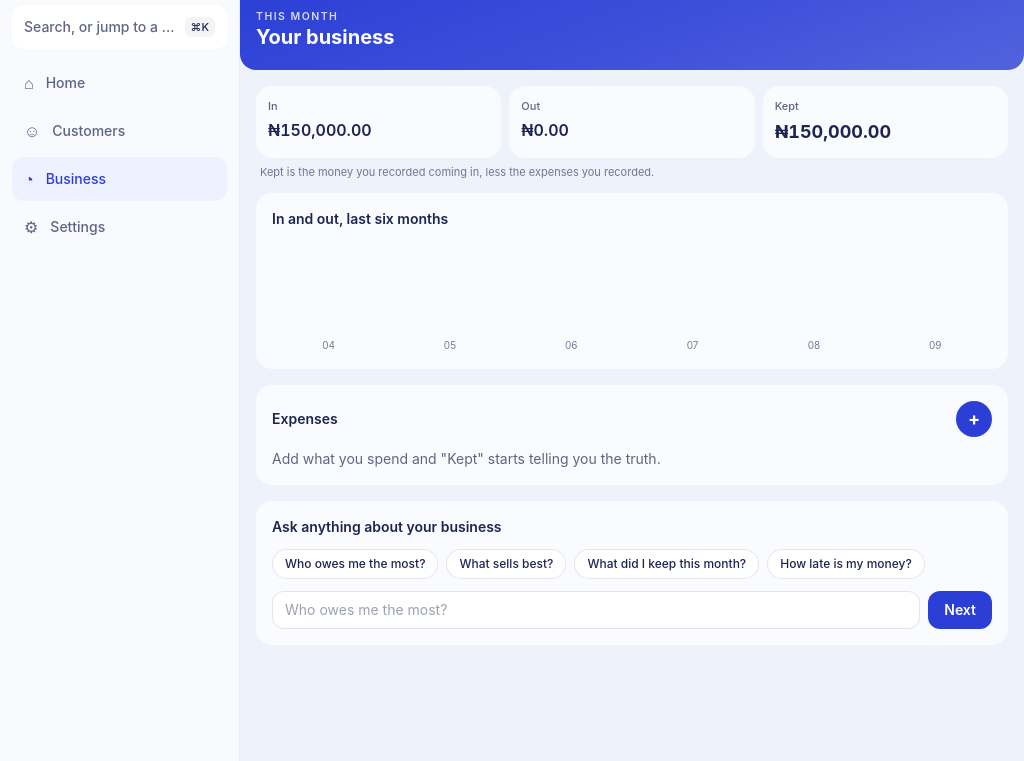
Adding an expense moves Kept, on the real screen › writes through the repository and the page re-reads
Expected: the element labelled "Kept" shows "₦150,000.00", [775,121,891,142]
Click the button named "Add an expense".
click(974, 419)  # box [956,401,992,437]
(page scrolled)
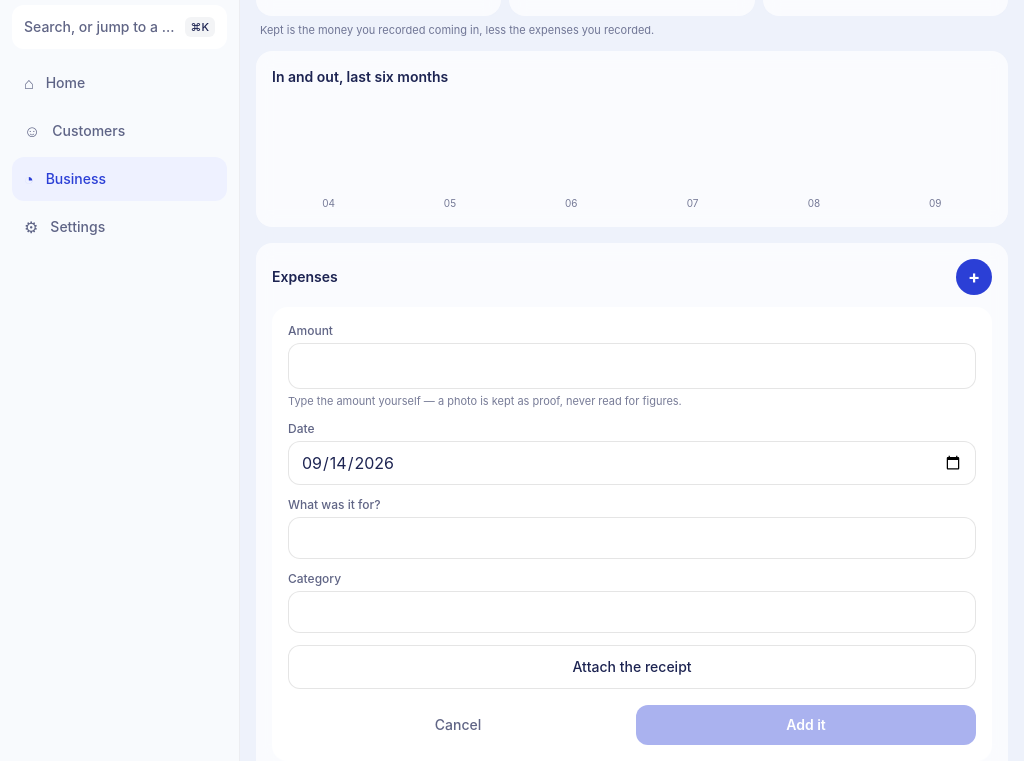
Type "9500" into the field labelled "Amount".
click(632, 366); type("9500")  # box [288,343,976,389]
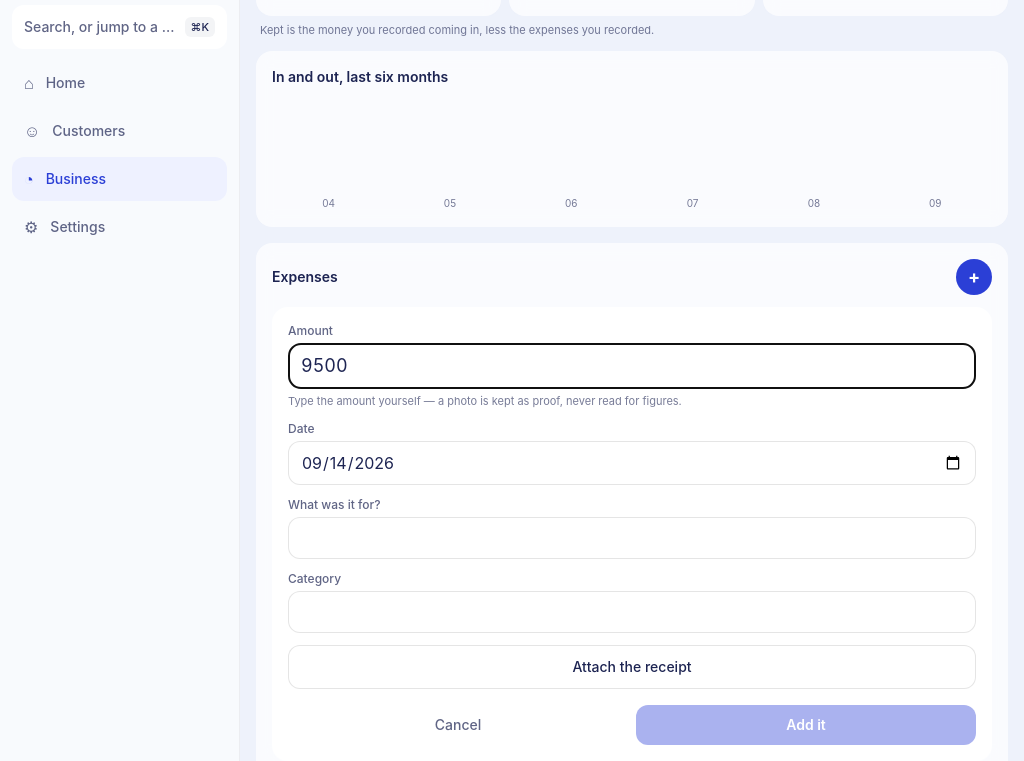
Type "Diesel" into the field labelled "What was it for?".
click(632, 538); type("Diesel")  # box [288,517,976,559]
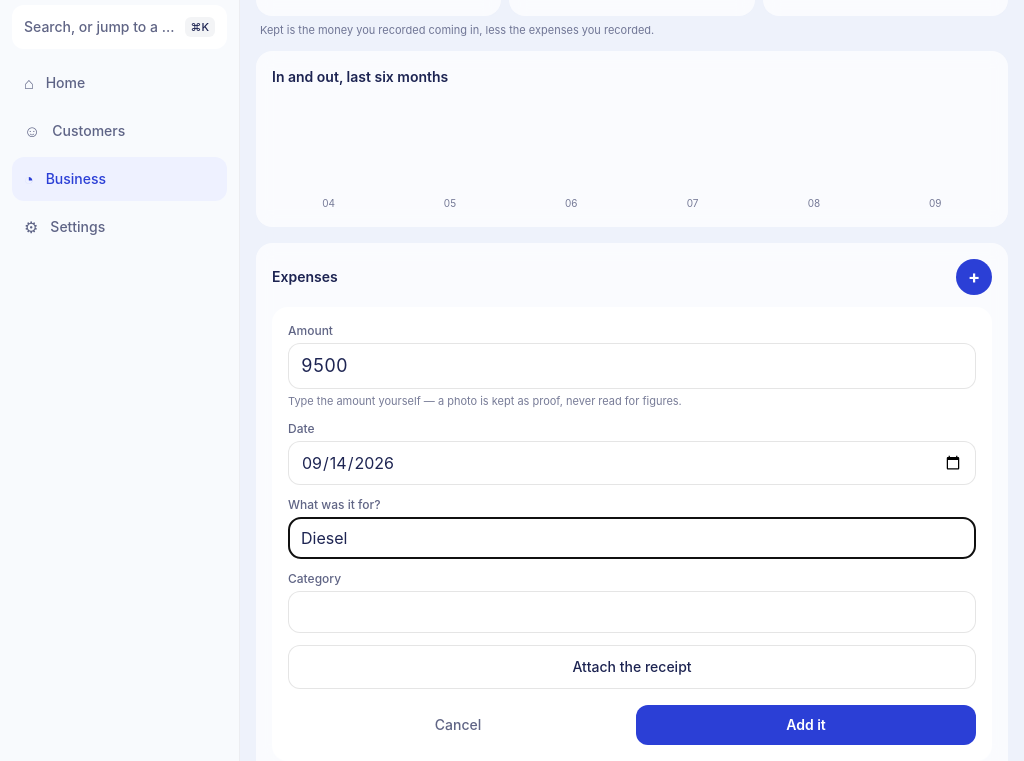
Click the button "Add it".
click(806, 725)  # box [636,705,976,745]
(page scrolled)
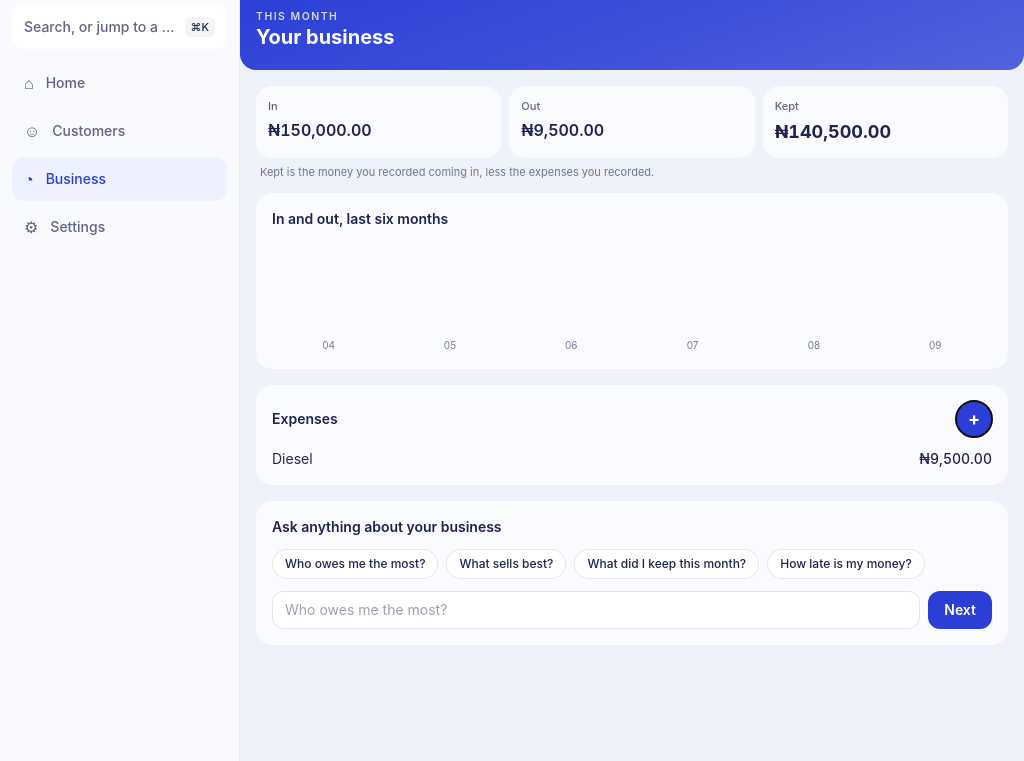
Now the text "₦140,500.00" is shown, box [775,121,891,142]
